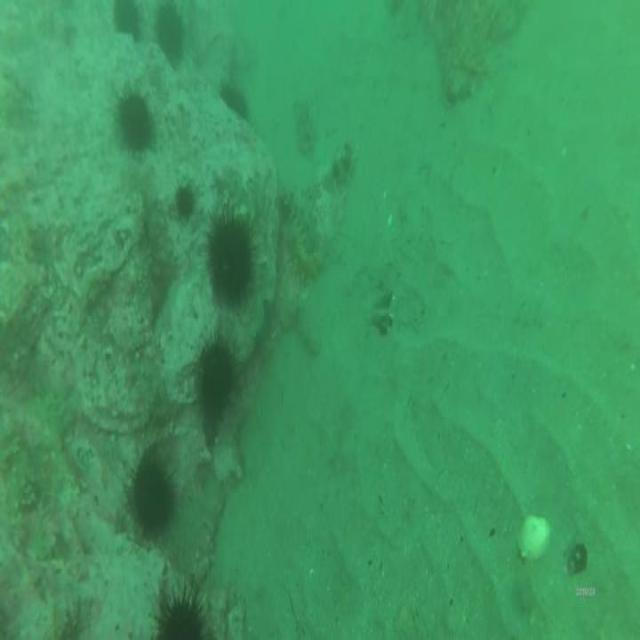echinus: (201, 207, 259, 310), (124, 449, 180, 548), (146, 584, 213, 640), (194, 335, 238, 420), (114, 84, 157, 158), (151, 0, 186, 71), (216, 76, 250, 122), (111, 0, 144, 46), (172, 177, 199, 228)
holothurian: (214, 327, 280, 446), (184, 491, 230, 596), (442, 0, 483, 107), (274, 180, 322, 256), (275, 213, 326, 284), (294, 286, 326, 363), (291, 95, 321, 156)
scallop: (514, 507, 554, 569)
